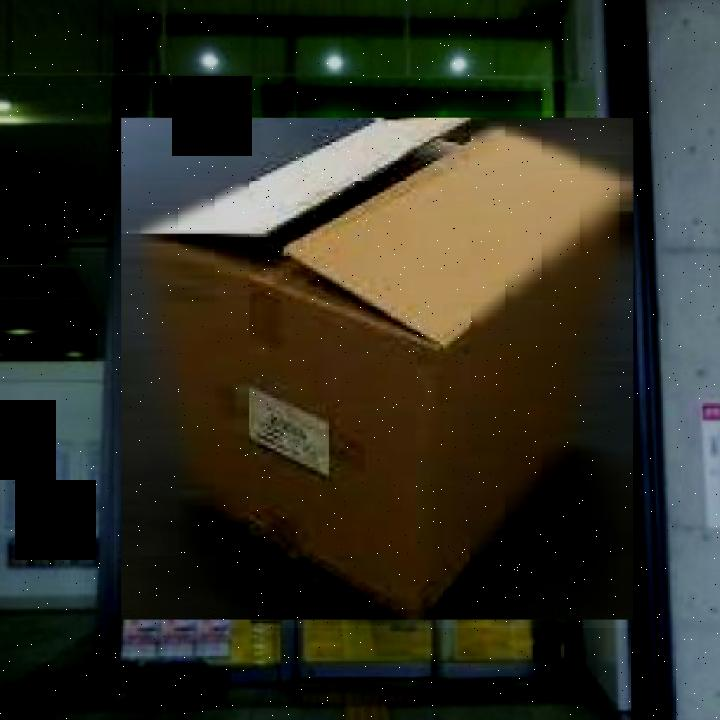box: (114, 111, 642, 628)
